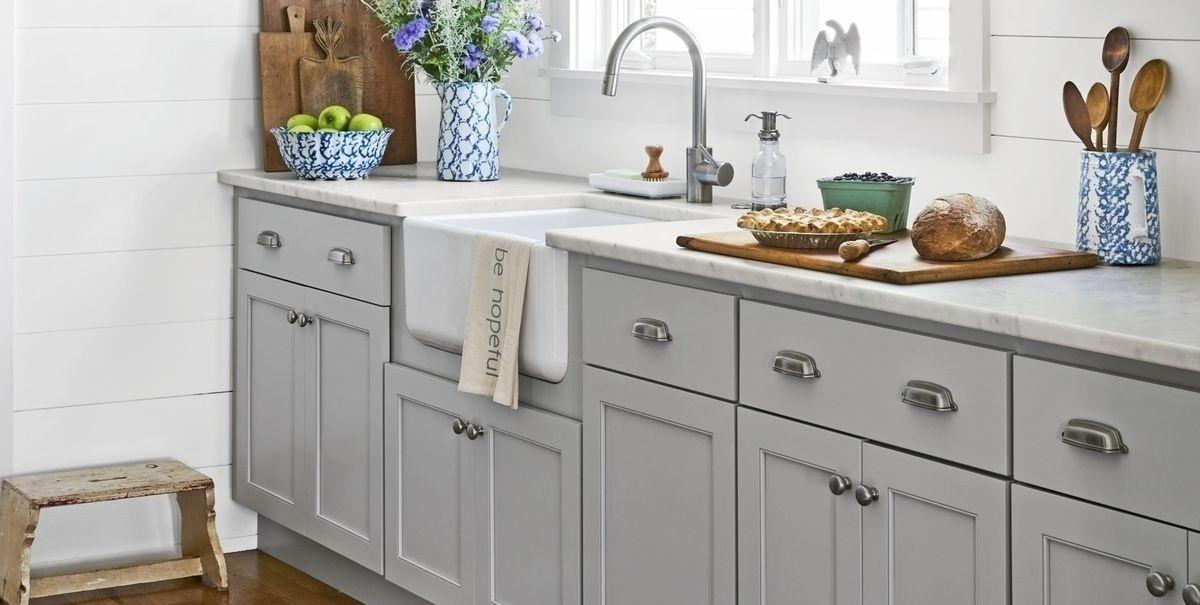cabinet_door: (588, 386, 723, 605), (746, 340, 988, 432), (858, 464, 1000, 605), (745, 444, 864, 605), (1021, 392, 1198, 499), (478, 418, 575, 605), (309, 302, 376, 537), (386, 389, 465, 581), (1015, 513, 1174, 603), (241, 288, 303, 490), (583, 299, 720, 373), (244, 216, 394, 279)
handle: (1057, 415, 1132, 463), (894, 377, 963, 418), (769, 345, 822, 385), (628, 317, 677, 350), (848, 482, 887, 511), (1139, 572, 1178, 598), (323, 247, 363, 272), (821, 473, 858, 499), (252, 228, 290, 253), (294, 309, 326, 334), (277, 305, 306, 329), (465, 422, 493, 444), (447, 419, 471, 440), (1180, 583, 1200, 605)
